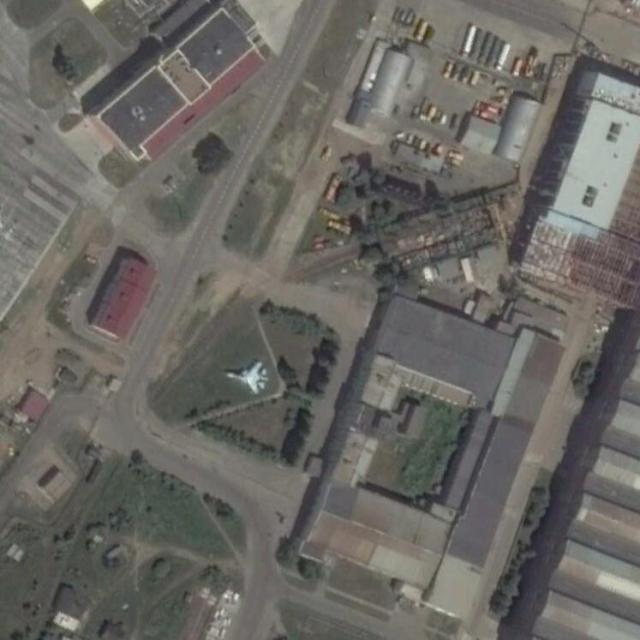fighter jet: (221, 357, 269, 395)
